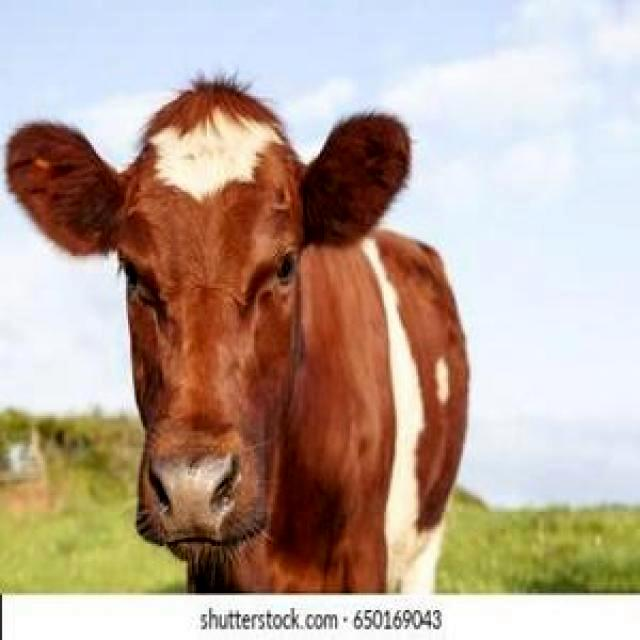COW: (6, 80, 469, 592)
